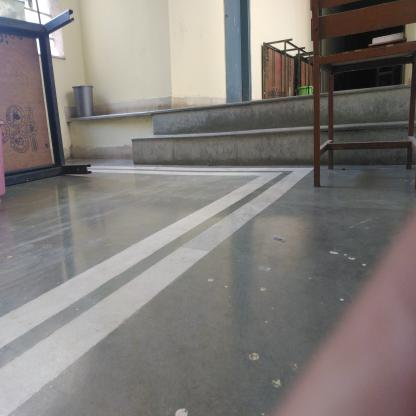stairs: (165, 106, 312, 168)
